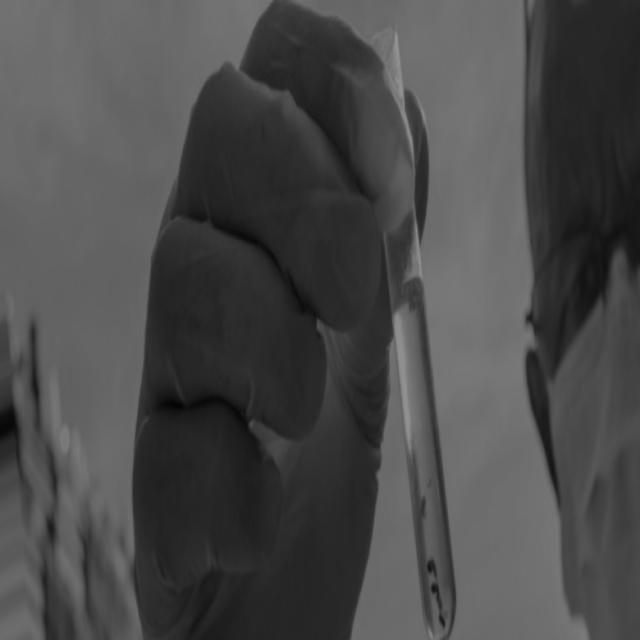larvas: (432, 580, 441, 604), (428, 558, 437, 577), (439, 608, 448, 627), (420, 492, 427, 514)
